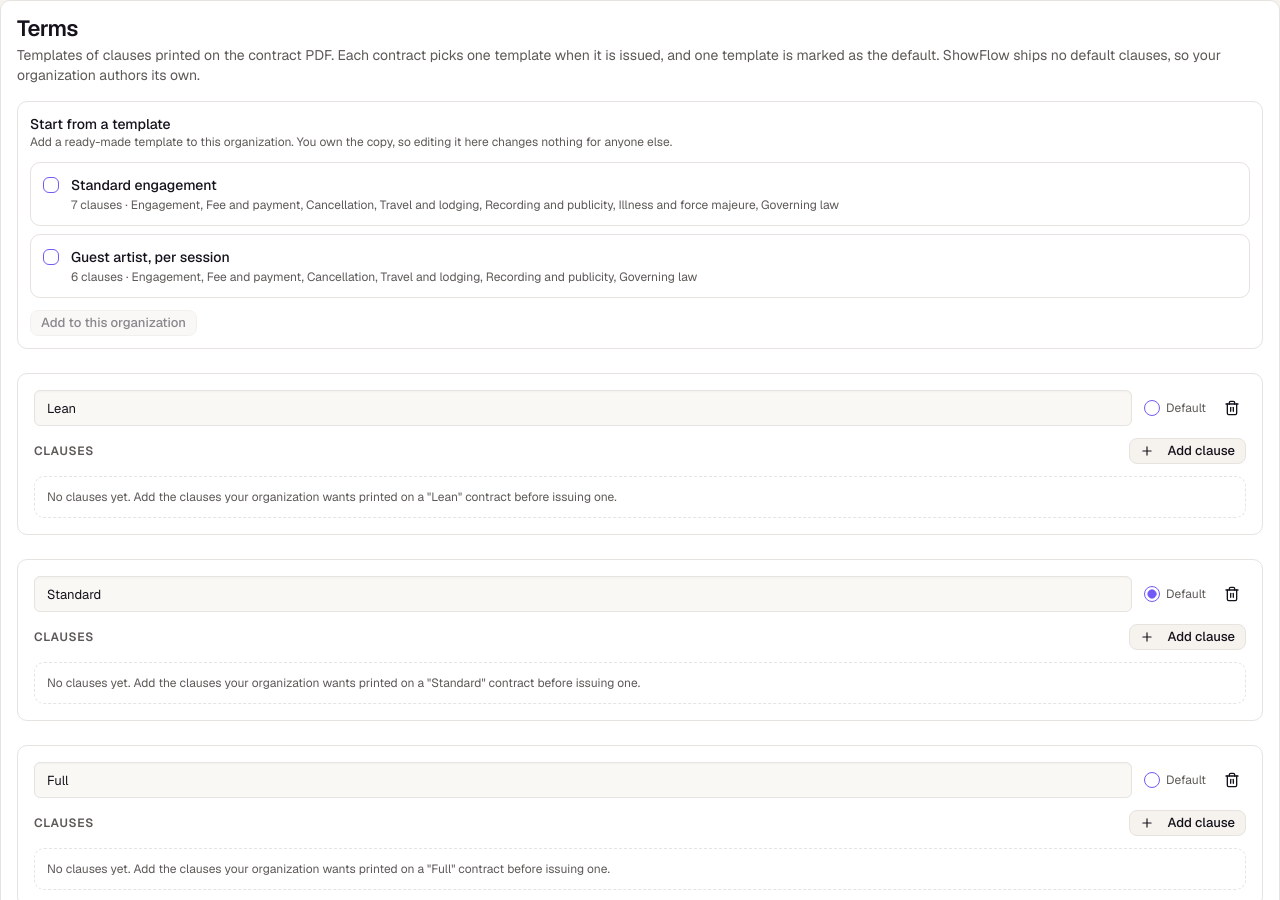
TermsVariantsCard › deleting the last remaining template shows the empty state (default_id null)
Expected: the field showing "Lean" is shown, 34,390 -> 1132,426
Click the button named "delete " at coordinates (1232, 408), box 1218,394 -> 1246,422
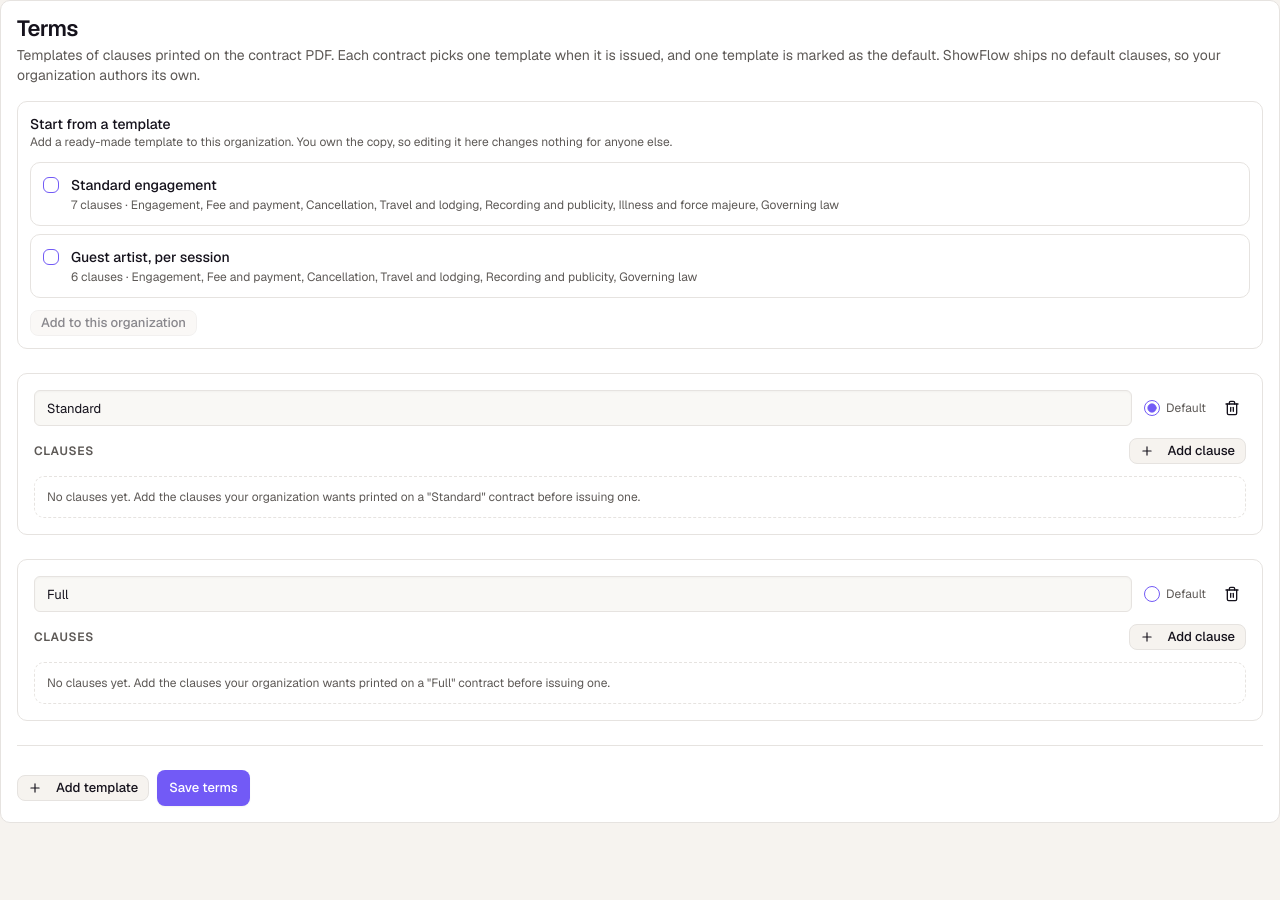
Click the button named "delete " at coordinates (1232, 408), box 1218,394 -> 1246,422
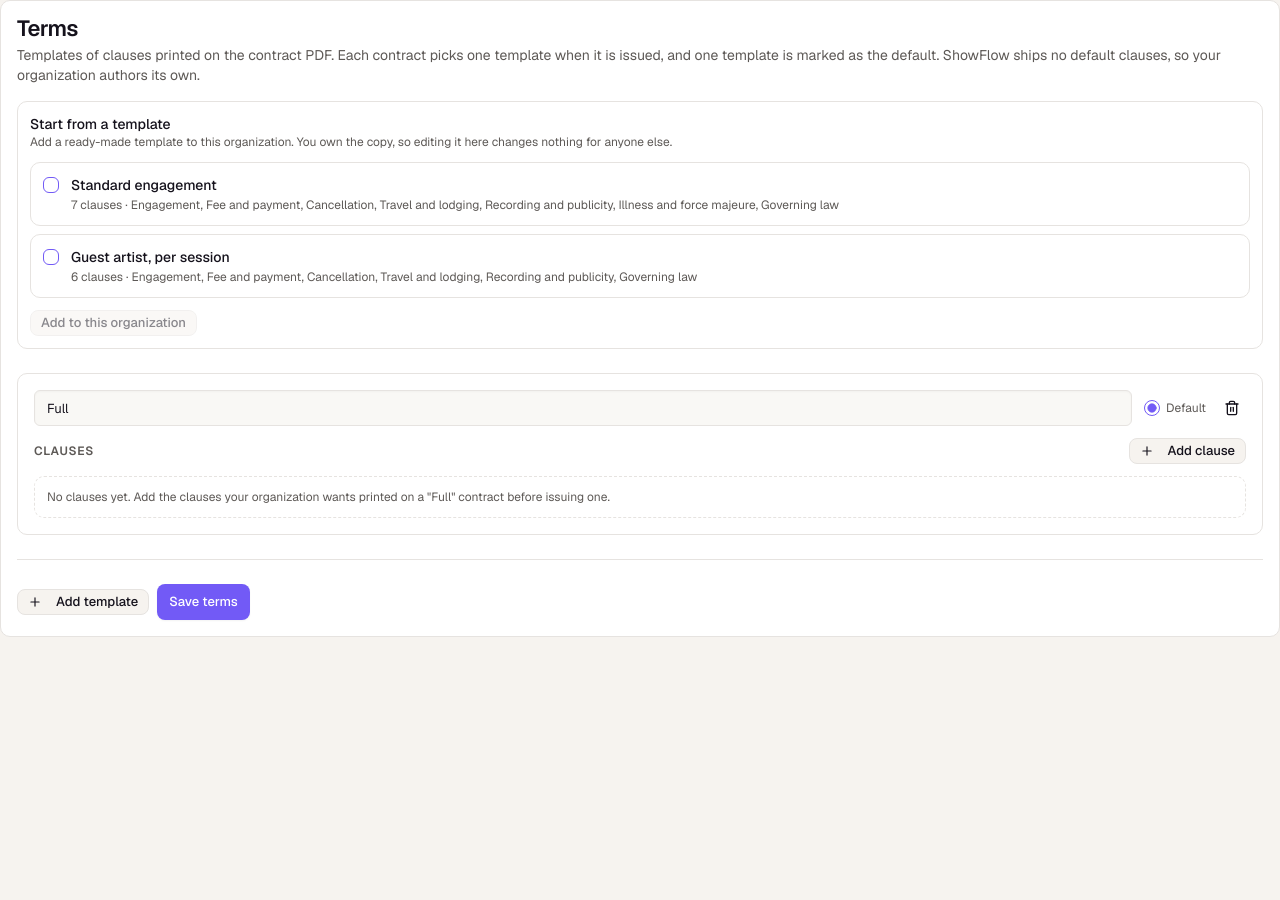
Click the button named "delete " at coordinates (1232, 408), box 1218,394 -> 1246,422
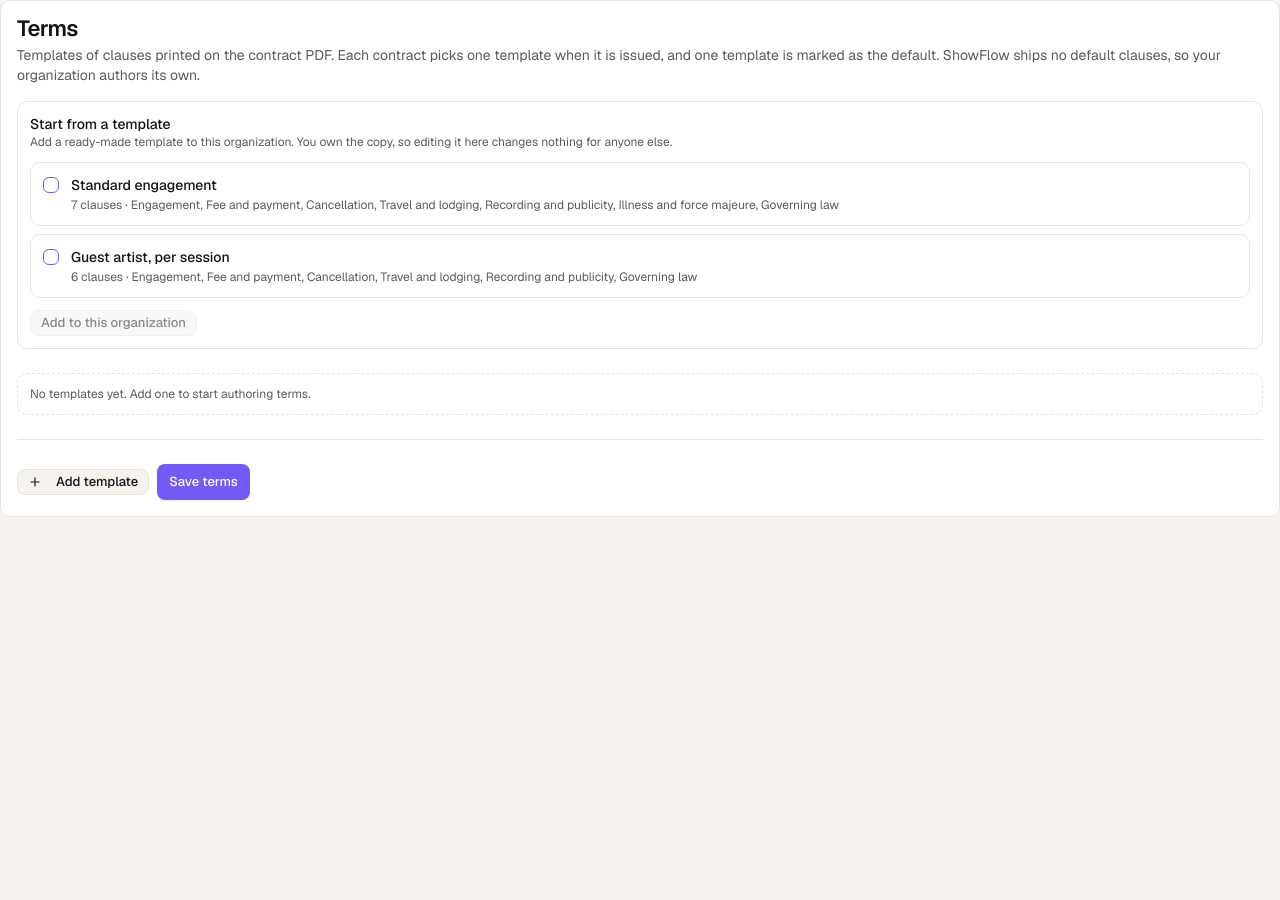
Expected: the text "No templates yet. Add one to start authoring terms." is shown, 17,373 -> 1263,415
Expected: the radio button is gone
